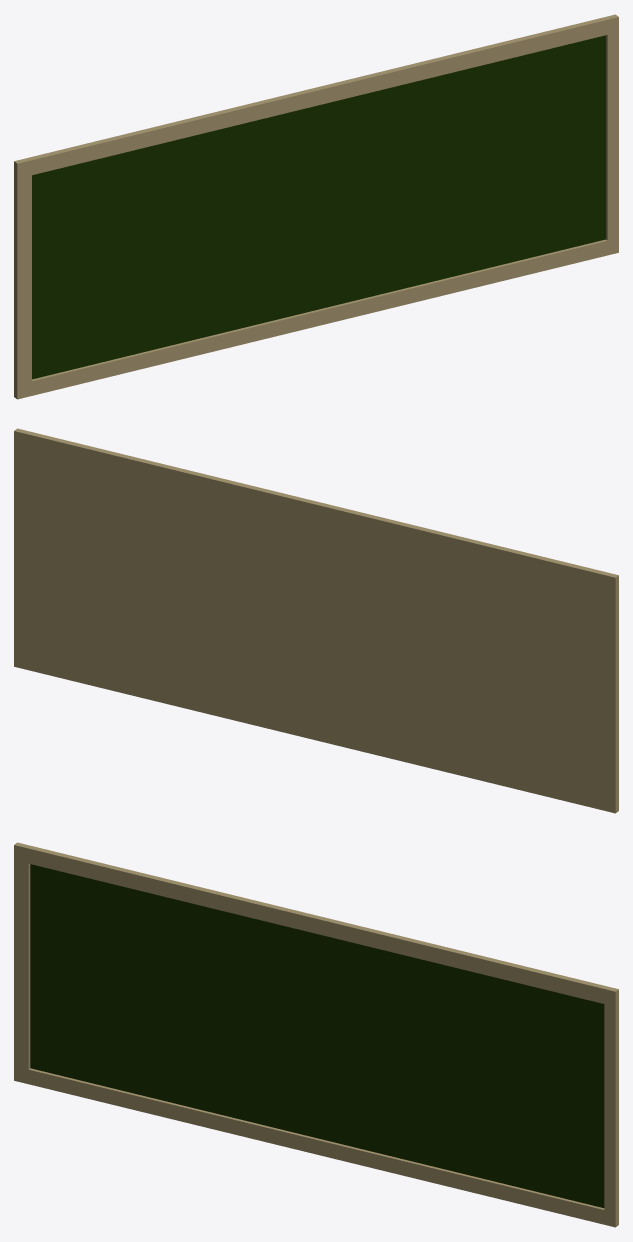
Rendered from blackBorad.dae.
3 renders of one model, top to bottom at view 1: azimuth 30°, elevation 25°; view 2: azimuth 150°, elevation 25°; view 3: azimuth 330°, elevation 25°, orthographic.
Parts seen in each view (by area): view 1: SketchUp (×3); view 2: SketchUp; view 3: SketchUp (×3).
Boxes of the visible parts, box(x1,y1,x2,y2) form: SketchUp (×3): box(14, 14, 618, 399); SketchUp: box(14, 428, 618, 813); SketchUp (×3): box(14, 842, 618, 1227).
Bounding box in the file's own units: 145 × 1.44 × 54.44.
